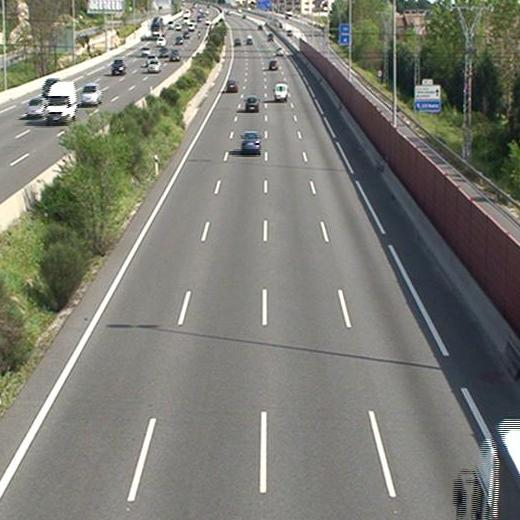car: (241, 131, 260, 153), (245, 95, 259, 111), (268, 59, 280, 69), (227, 80, 237, 91)
van: (273, 84, 288, 100)
